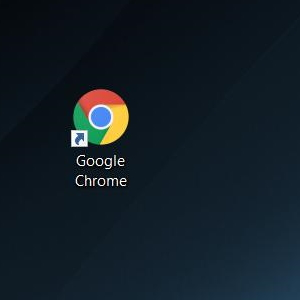chrome: (71, 88, 129, 147)
